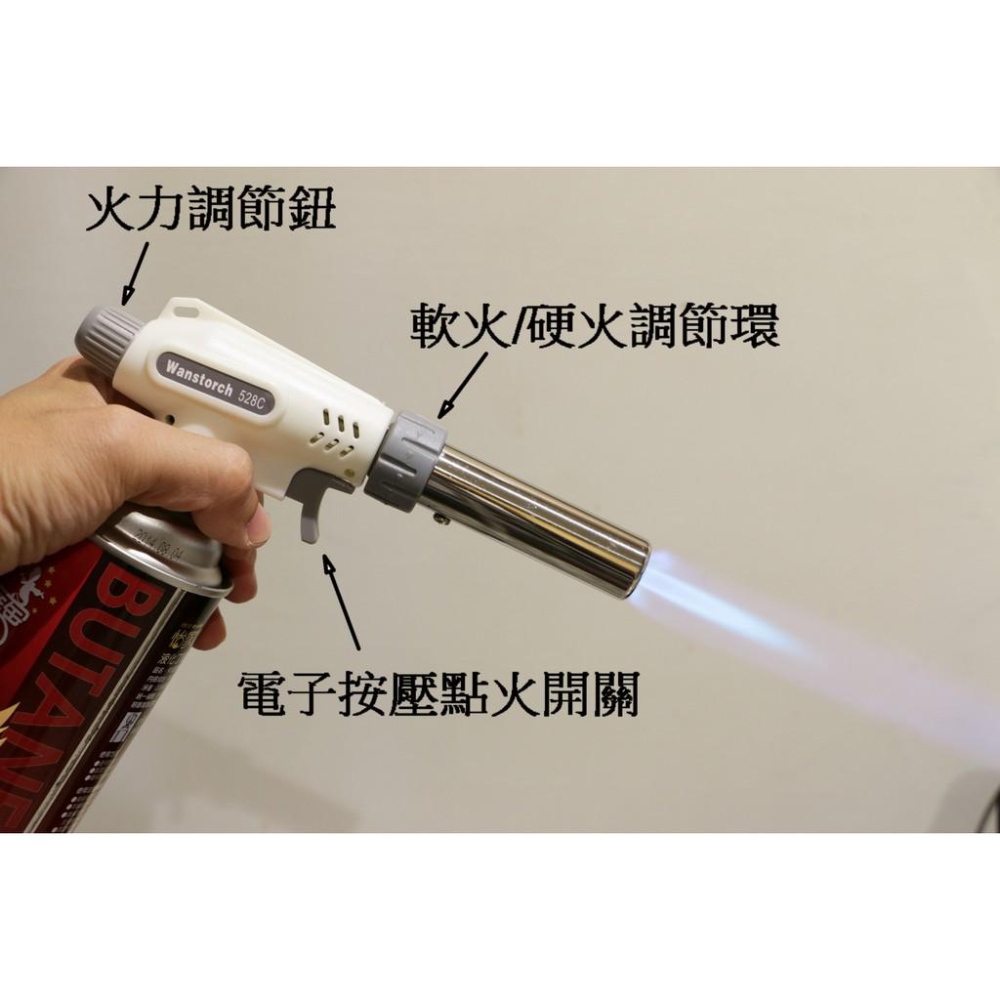gastorch: (1, 295, 661, 832)
